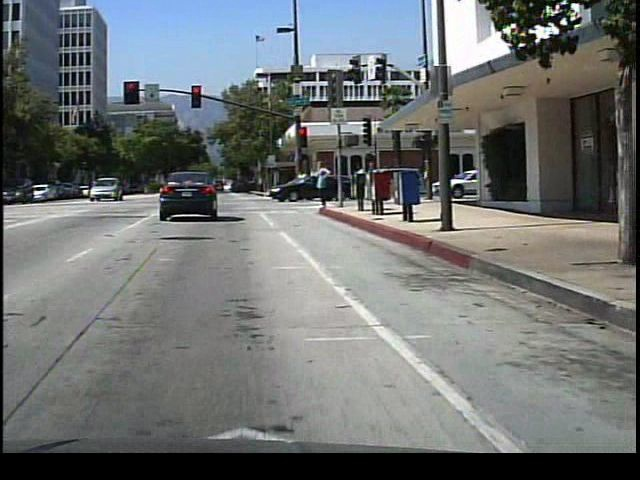person: (312, 153, 337, 213), (366, 155, 385, 205), (355, 158, 373, 203)
